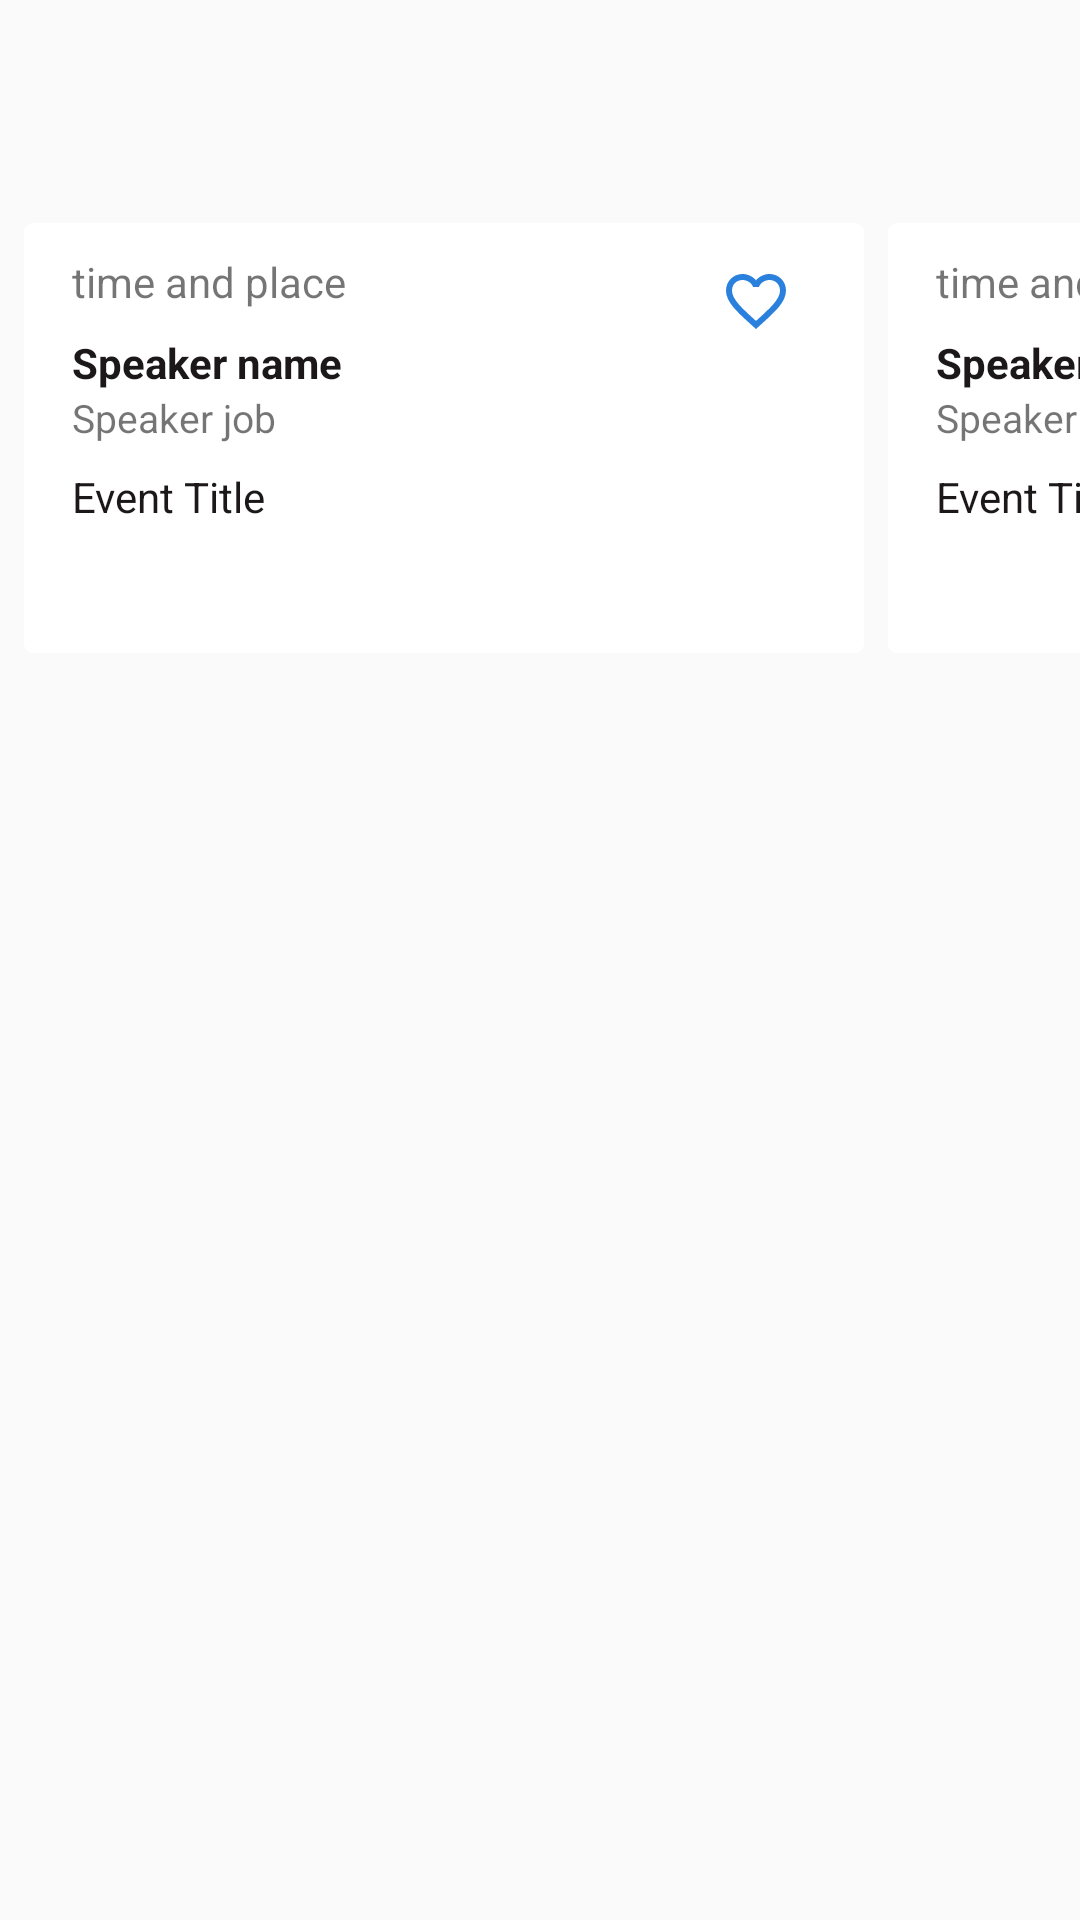

Locate icon controls on the screen. Image size 1080 x 1920, boxes as (x1, y1, x2, y2).
favourite border: (726, 274, 786, 329)
